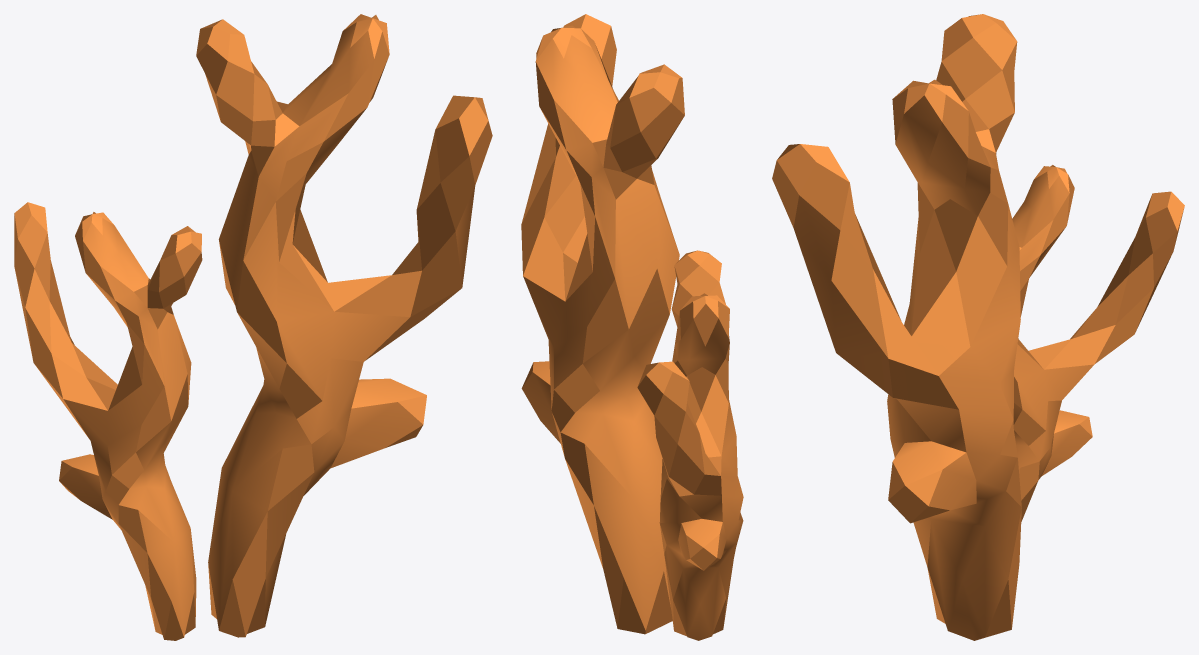
File: Coral3.glb
3 renders of one model, left to right at view 1: azimuth 30°, elevation 25°; view 2: azimuth 150°, elevation 25°; view 3: azimuth 270°, elevation 25°, orthographic. The views are drawn at different scales.
Parts seen in each view (by area): view 1: Cylinder.001_Material.002_0, Cylinder.002_Material.002_0; view 2: Cylinder.001_Material.002_0, Cylinder.002_Material.002_0; view 3: Cylinder.001_Material.002_0, Cylinder.002_Material.002_0.
Boxes of the visible parts, x1,y1,x2,y2 form: Cylinder.001_Material.002_0: (196, 14, 492, 637); Cylinder.002_Material.002_0: (14, 202, 202, 640); Cylinder.001_Material.002_0: (521, 14, 684, 634); Cylinder.002_Material.002_0: (637, 250, 743, 640); Cylinder.001_Material.002_0: (772, 14, 1021, 640); Cylinder.002_Material.002_0: (1012, 165, 1184, 521).
Bounding box in the file's own units: 0.2303 × 0.4327 × 0.2625.
